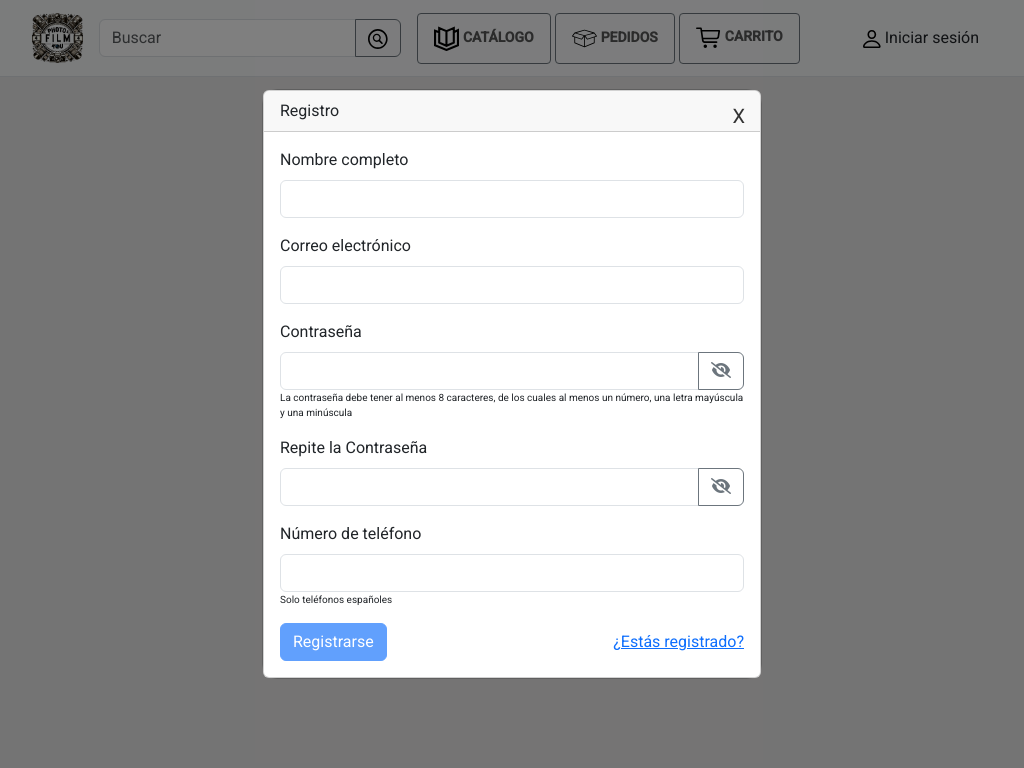
it: Register Network Requests › Fill form with invalid data › should display warning for less than 5 char in name
Note: Insert incorrect name that triggers the 'minlength' error
Type "abcd" into the field with id "fullName" at (512, 199), box 280,180 -> 744,218
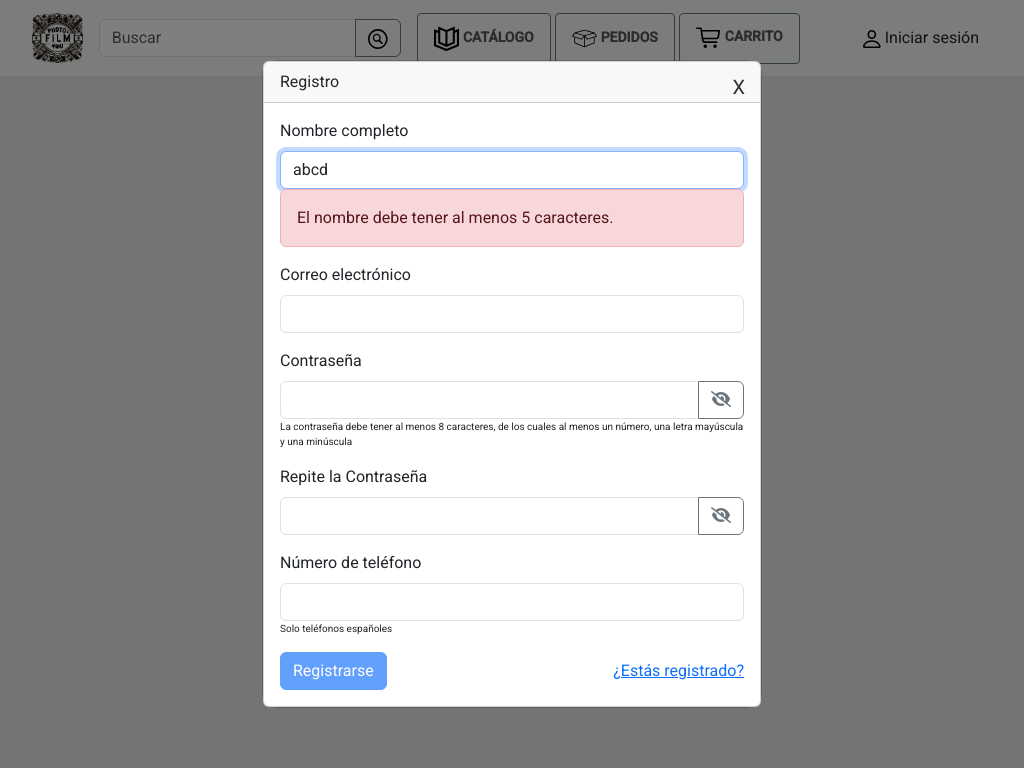
Check: the text "El nombre debe tener al menos 5 caracteres." is shown, box 280,189 -> 744,247
